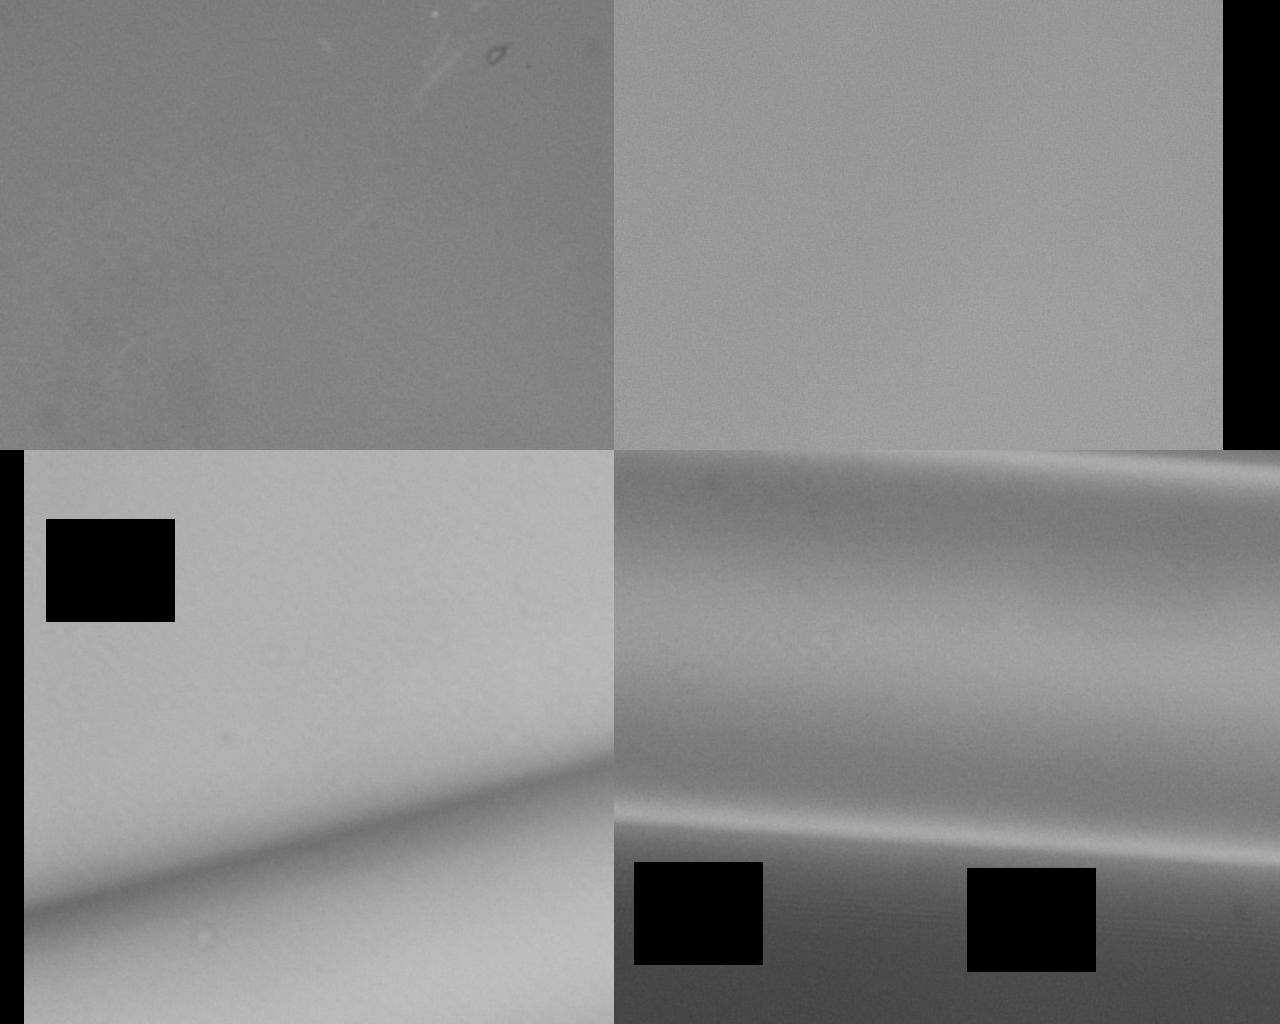fiber: (614, 450, 1280, 870), (23, 761, 614, 1024)
